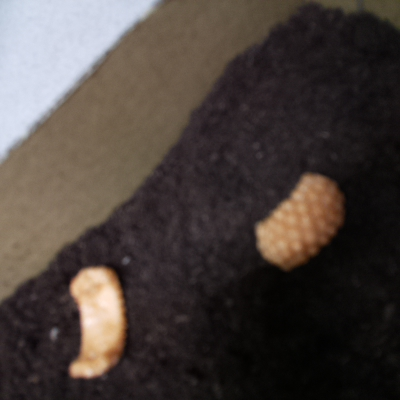eggs: (245, 158, 351, 275), (54, 263, 129, 383)
